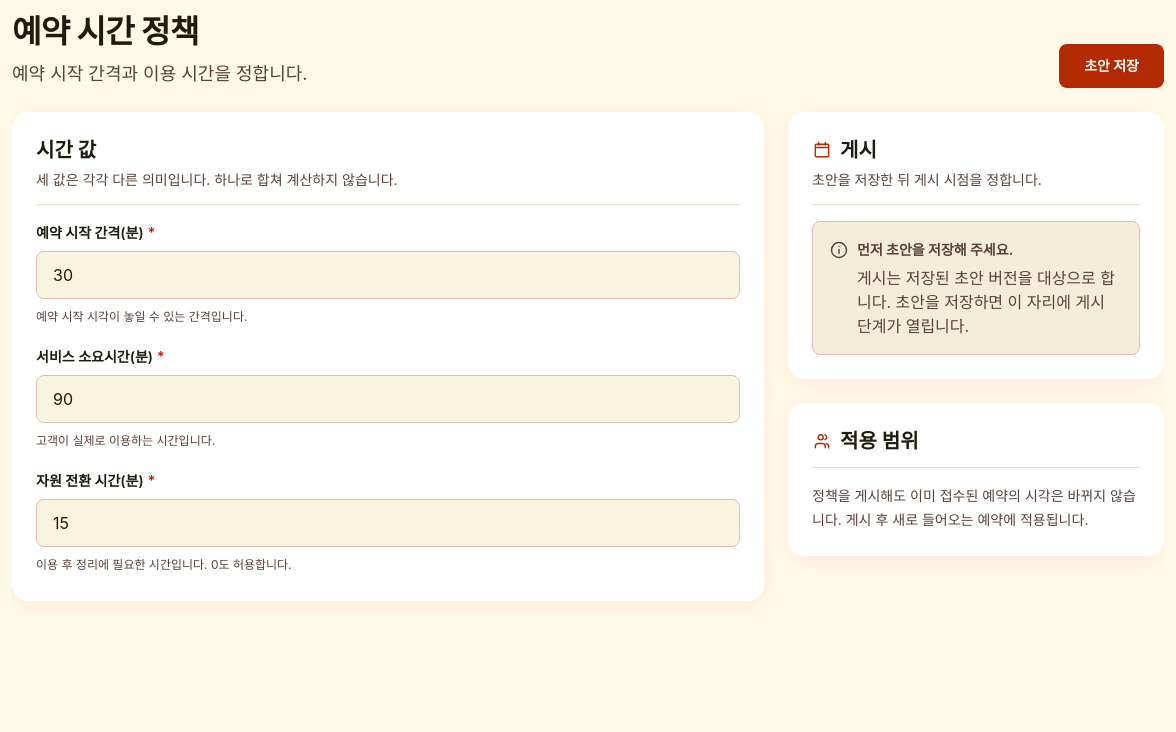
Scenario: 예약 시간 정책 화면 › 시간 정책 상태 충돌은 서버 코드로 안내한다
Expected: the field labelled "예약 시작 간격(분)" is shown, [36, 251, 740, 299]
Click the button "초안 저장": click(1112, 66) [1059, 44, 1164, 88]
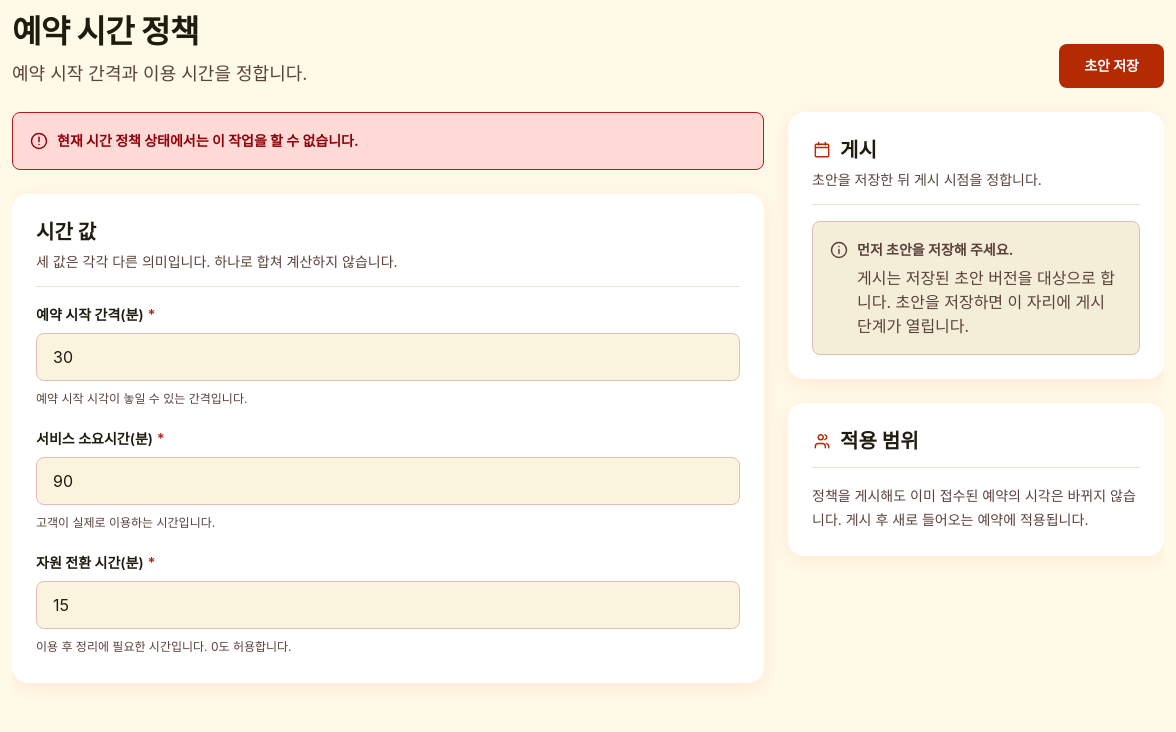
Expected: the text "현재 시간 정책 상태에서는 이 작업을 할 수 없습니다." is shown, [57, 132, 359, 149]
